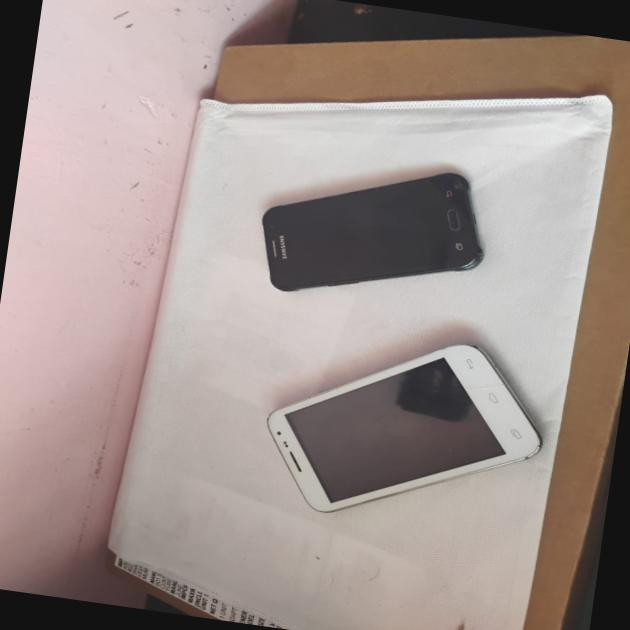phone: (264, 313, 538, 549), (262, 148, 512, 320)
